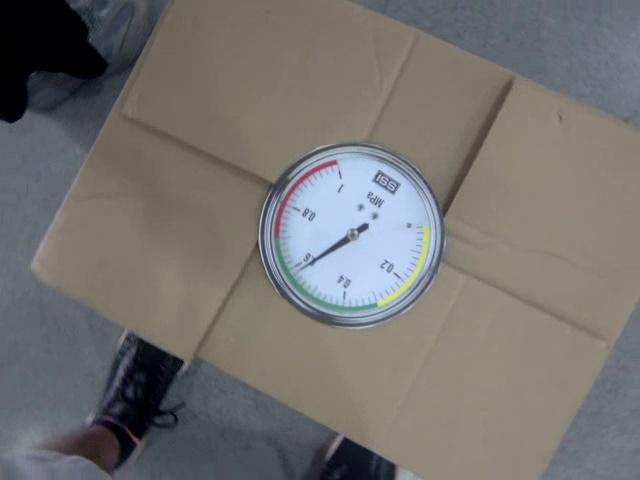Dashboard: (256, 141, 446, 331)
ssi: (371, 168, 401, 194)
